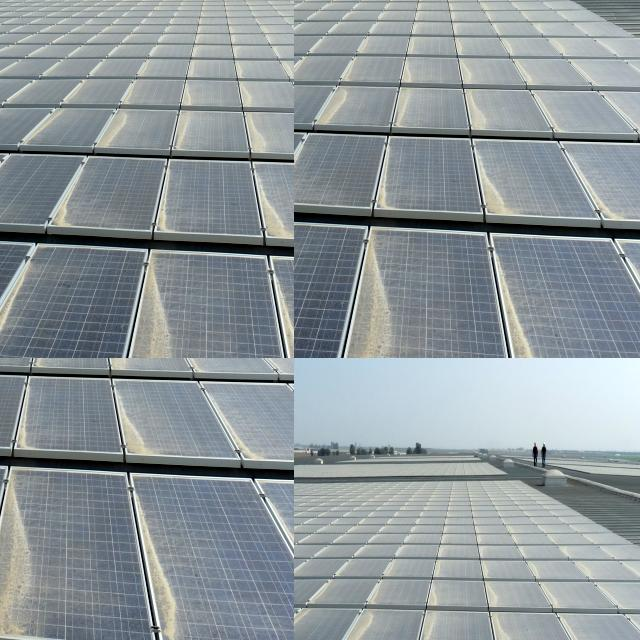bird: (0, 358, 46, 491)
crack: (0, 26, 115, 172)
dust: (489, 547, 635, 640), (309, 553, 405, 640), (414, 545, 484, 640), (294, 548, 339, 640)
panel: (294, 0, 302, 15), (294, 0, 303, 11), (294, 0, 305, 8), (294, 0, 302, 7), (294, 0, 303, 4), (294, 0, 301, 4)
